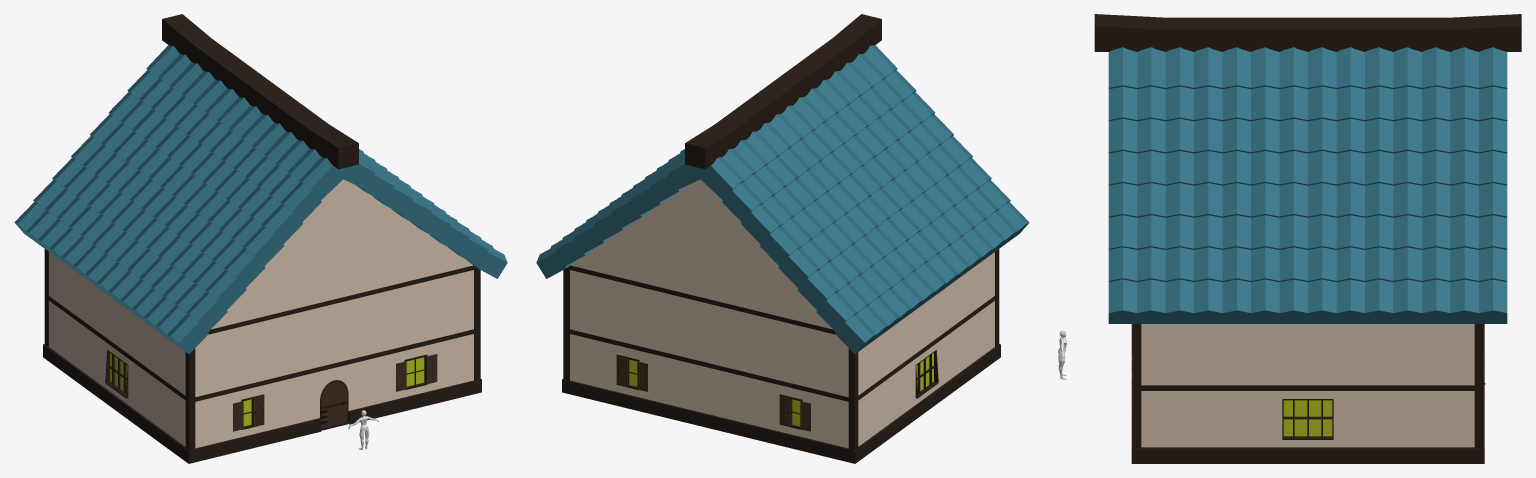
The model's file is Houses.fbx.
3 views of the same model, side by side, from view 1: azimuth 30°, elevation 25°; view 2: azimuth 150°, elevation 25°; view 3: azimuth 270°, elevation 25° (orthographic). The views are drawn at different scales.
Parts seen in each view (by area): view 1: Cube.002, Cube.028, Cube.007, Wall2XCorner.005, Wall2X.045, Wall2XCorner.004, WindowsDouble.003, Wall2X.007, Wall2X.012, Wall2X.003, Wall2X.002, Wall2X.013 (+17 smaller); view 2: Cube.002, Cube.028, Cube.007, Wall2XCorner.006, Wall2X.045, Wall2XCorner.008, WindowsDouble.003, Wall2X.007, Wall2X.036, Wall2X.035, Wall2X.025, Wall2X.030 (+16 smaller); view 3: Cube.002, Cube.007, WindowsDouble.001, Wall2X.009, Wall2X.038, Wall2XCorner.003, Wall2XCorner.014, Wall2X.005, Wall2X.008, Wall2X.011, Wall2X.037, Wall2XCorner.002 (+4 smaller).
Boxes of the visible parts, x1=… form: Cube.002: x1=14, y1=45, x2=507, y2=353; Cube.028: x1=211, y1=179, x2=473, y2=329; Cube.007: x1=162, y1=14, x2=358, y2=169; Wall2XCorner.005: x1=163, y1=386, x2=233, y2=463; Wall2X.045: x1=44, y1=294, x2=480, y2=450; Wall2XCorner.004: x1=165, y1=329, x2=232, y2=396; WindowsDouble.003: x1=92, y1=334, x2=141, y2=427; Wall2X.007: x1=44, y1=249, x2=480, y2=399; Wall2X.012: x1=354, y1=289, x2=395, y2=358; Wall2X.003: x1=232, y1=319, x2=273, y2=387; Wall2X.002: x1=273, y1=373, x2=314, y2=442; Wall2X.013: x1=354, y1=353, x2=396, y2=422; Cube.002: x1=536, y1=45, x2=1029, y2=353; Cube.028: x1=570, y1=179, x2=832, y2=329; Cube.007: x1=685, y1=14, x2=881, y2=169; Wall2XCorner.006: x1=810, y1=386, x2=880, y2=463; Wall2X.045: x1=563, y1=294, x2=999, y2=450; Wall2XCorner.008: x1=811, y1=329, x2=878, y2=396; WindowsDouble.003: x1=902, y1=334, x2=951, y2=427; Wall2X.007: x1=563, y1=249, x2=999, y2=399; Wall2X.036: x1=647, y1=353, x2=689, y2=422; Wall2X.035: x1=648, y1=289, x2=689, y2=358; Wall2X.025: x1=770, y1=319, x2=811, y2=387; Wall2X.030: x1=688, y1=363, x2=729, y2=432; Cube.002: x1=1108, y1=47, x2=1507, y2=323; Cube.007: x1=1094, y1=14, x2=1521, y2=51; WindowsDouble.001: x1=1251, y1=391, x2=1364, y2=463; Wall2X.009: x1=1194, y1=391, x2=1250, y2=463; Wall2X.038: x1=1365, y1=391, x2=1421, y2=463; Wall2XCorner.003: x1=1131, y1=391, x2=1193, y2=463; Wall2XCorner.014: x1=1422, y1=391, x2=1484, y2=463; Wall2X.005: x1=1308, y1=324, x2=1364, y2=385; Wall2X.008: x1=1194, y1=324, x2=1250, y2=385; Wall2X.011: x1=1251, y1=324, x2=1307, y2=385; Wall2X.037: x1=1365, y1=324, x2=1421, y2=385; Wall2XCorner.002: x1=1141, y1=324, x2=1193, y2=385.
Bounding box in the file's own units: 1638 × 1380 × 1627.
